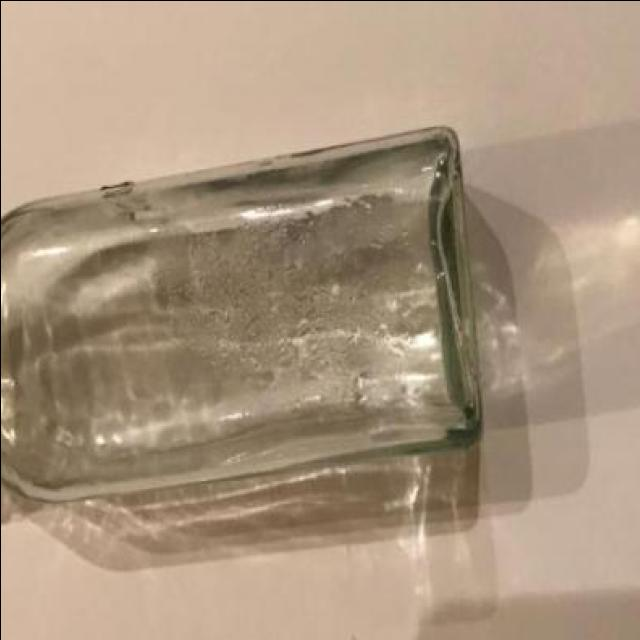kaca: (0, 133, 478, 503)
